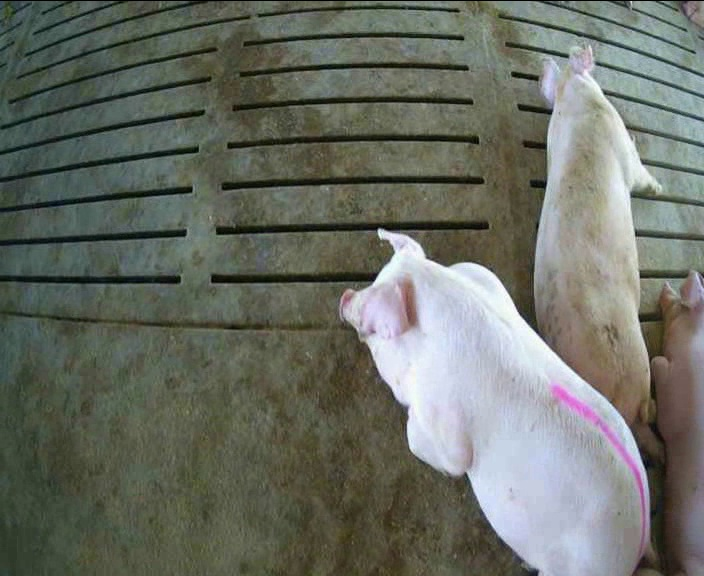pig: (340, 230, 655, 574), (535, 46, 661, 459), (641, 271, 703, 574)
